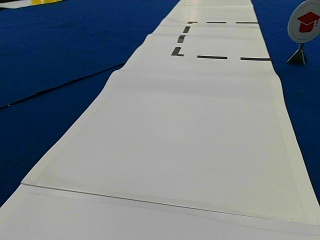school: (287, 1, 319, 42)
